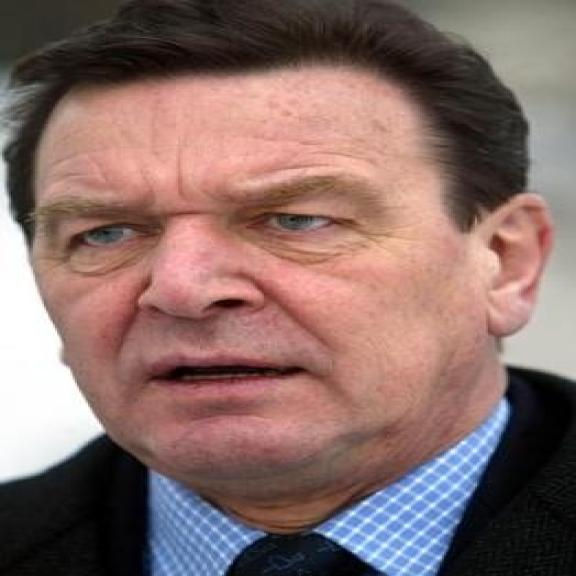face: (9, 3, 559, 486)
